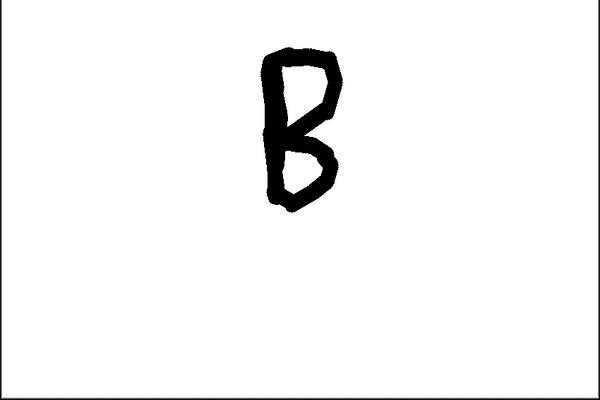B: (256, 41, 348, 216)
